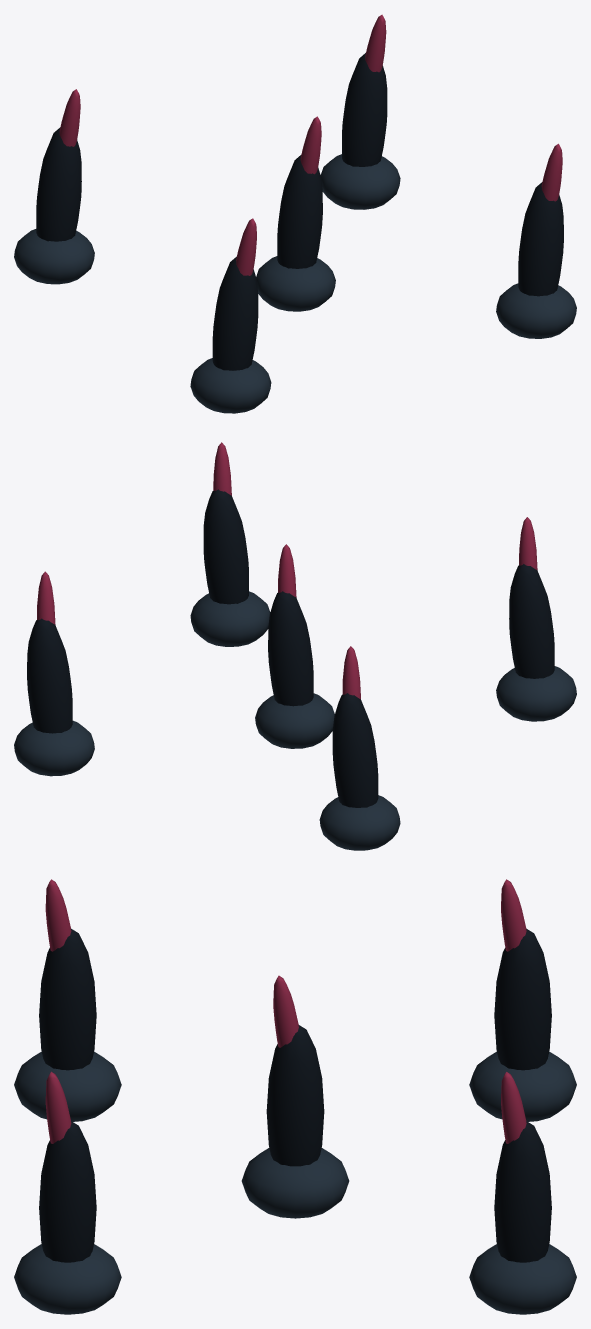
The model's file is CMU3DHiveXenoResinSpikes.glb.
3 views of the same model, one above another, from view 1: azimuth 30°, elevation 25°; view 2: azimuth 150°, elevation 25°; view 3: azimuth 270°, elevation 25° (orthographic). The views are drawn at different scales.
Visible parts, largest first — view 1: tapered dark barb (×5), flared chitin spike socket (×5), red barbed tip (×5); view 2: tapered dark barb (×5), flared chitin spike socket (×5), red barbed tip (×5); view 3: tapered dark barb (×5), flared chitin spike socket (×5), red barbed tip (×5).
Part boxes in pixels (x1,y1,x2,y2): tapered dark barb (×5): [36, 53, 563, 370]; flared chitin spike socket (×5): [14, 154, 576, 413]; red barbed tip (×5): [59, 14, 562, 275]; tapered dark barb (×5): [27, 489, 554, 807]; flared chitin spike socket (×5): [14, 591, 576, 850]; red barbed tip (×5): [37, 442, 537, 699]; tapered dark barb (×5): [39, 928, 551, 1262]; flared chitin spike socket (×5): [14, 1051, 576, 1314]; red barbed tip (×5): [45, 879, 526, 1143].
Size of the model in its own units: 0.738 by 0.3584 by 0.742.
